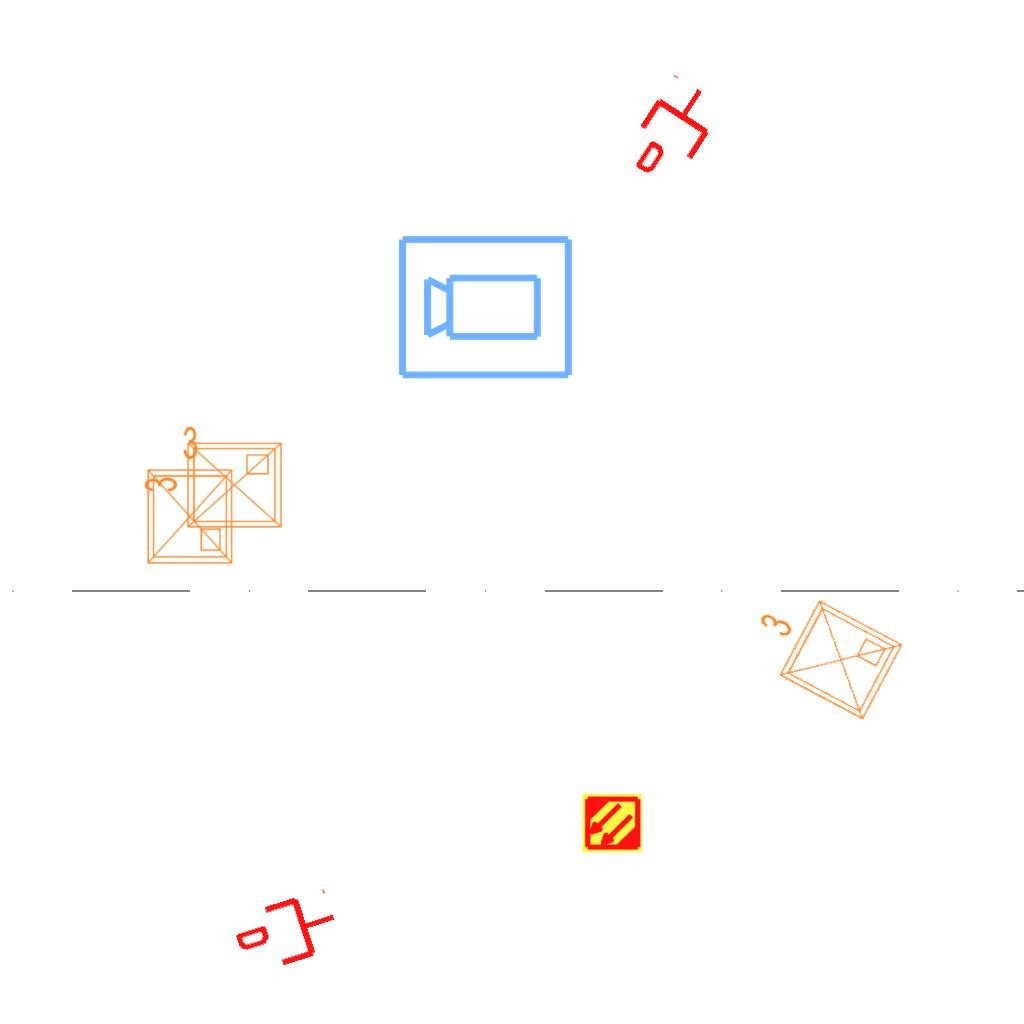ASR_Ansaugrauchmelder: (581, 792, 643, 854)
Datenanschluss_einfach: (617, 70, 730, 192), (229, 883, 346, 981)
Einbaudownlights_LED_Konferenzraeume: (731, 570, 913, 734), (136, 421, 240, 571), (139, 435, 289, 539)
KFO_Kamera_mit_Festobjektiv: (395, 229, 577, 383)
